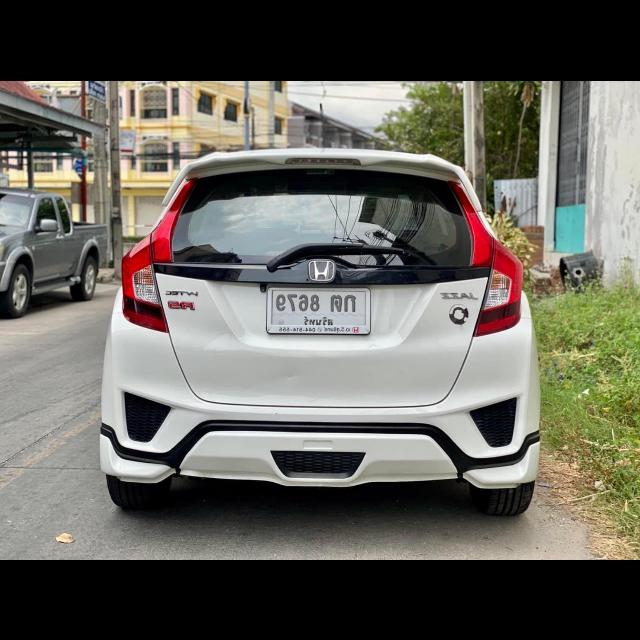cars: (92, 141, 552, 524)
